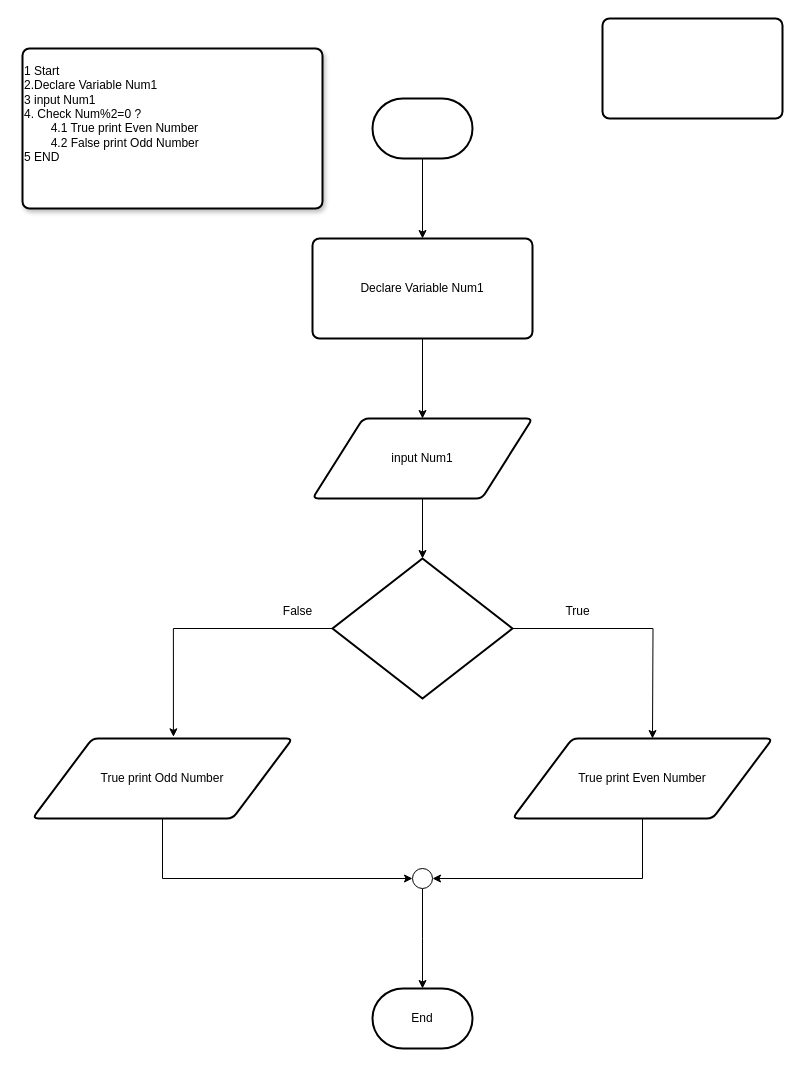
This 800x1066 diagram has some shape labels left out. Each missing label, with the centre of its shape:
Check Num%2=0 ?: the point at 422,628
Start: the point at 422,128
Student ID : 1670700044 นายณัฐชนนท์ ศิรมลพิวัฒน์ เลขที่ 1: the point at 692,68
